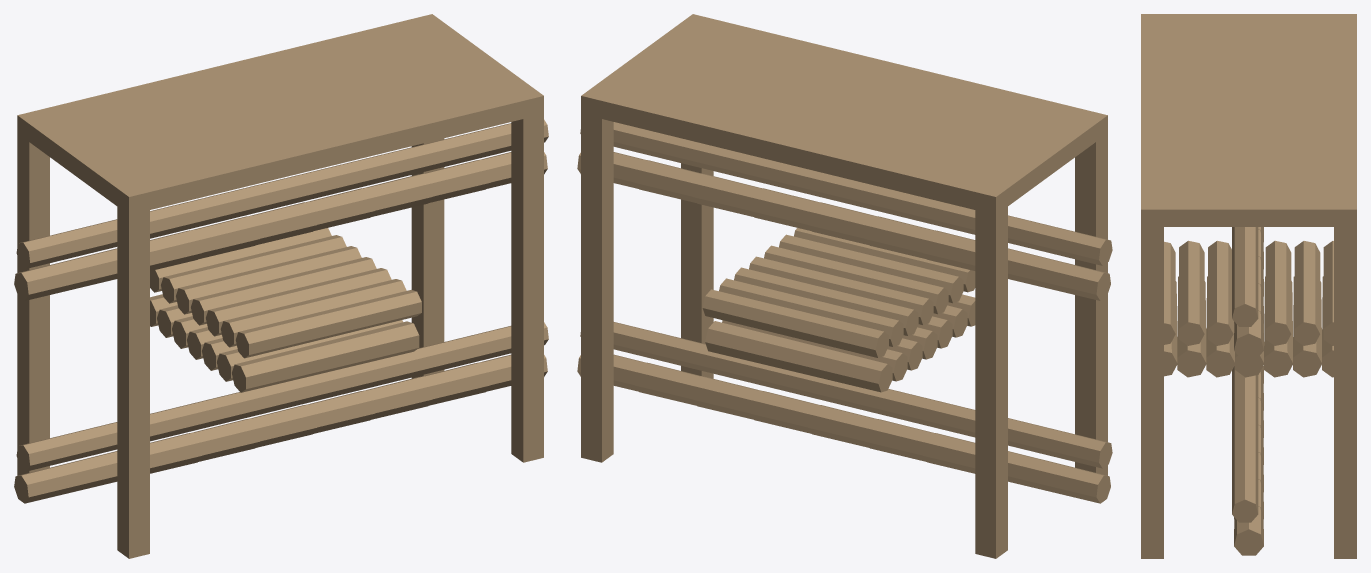
Rendered from roman-bathhouse-and-palaestra-furnace-wood-store-d62afae9__37879.glb.
The picture shows the model from 3 angles, left to right: view 1: azimuth 30°, elevation 25°; view 2: azimuth 150°, elevation 25°; view 3: azimuth 270°, elevation 25°; orthographic projection. The views are drawn at different scales.
Parts seen in each view (by area): view 1: furnace-wood-store; view 2: furnace-wood-store; view 3: furnace-wood-store.
Part boxes in pixels (x1=…): furnace-wood-store: x1=14, y1=14, x2=548, y2=558; furnace-wood-store: x1=577, y1=14, x2=1112, y2=558; furnace-wood-store: x1=1141, y1=14, x2=1356, y2=558.
Bounding box in the file's own units: 3 × 2 × 1.12.
